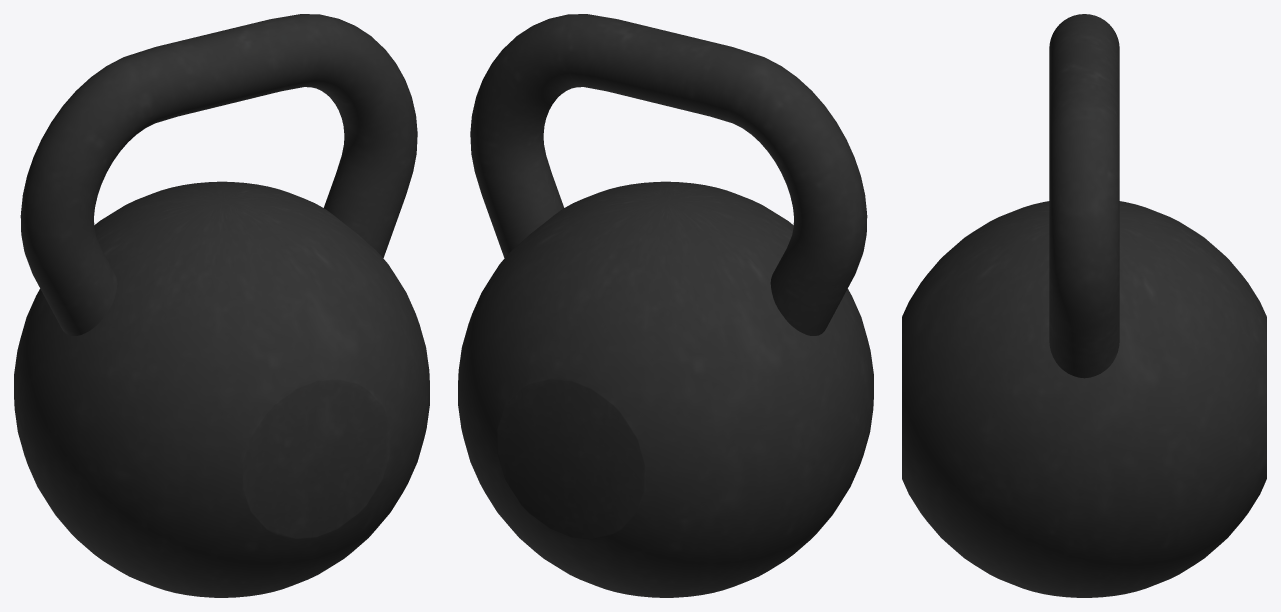
File: kettlebell.glb
3 renders of one model, left to right at view 1: azimuth 30°, elevation 25°; view 2: azimuth 150°, elevation 25°; view 3: azimuth 270°, elevation 25°, orthographic. The views are drawn at different scales.
Parts seen in each view (by area): view 1: Kettle_Bell; view 2: Kettle_Bell; view 3: Kettle_Bell.
Part boxes in pixels (box(x1,y1,x2,y2)): Kettle_Bell: box(14, 14, 429, 597); Kettle_Bell: box(458, 14, 873, 597); Kettle_Bell: box(902, 14, 1266, 597).
Bounding box in the file's own units: 16.54 × 21.64 × 14.04.
1 material, 1 textured.
